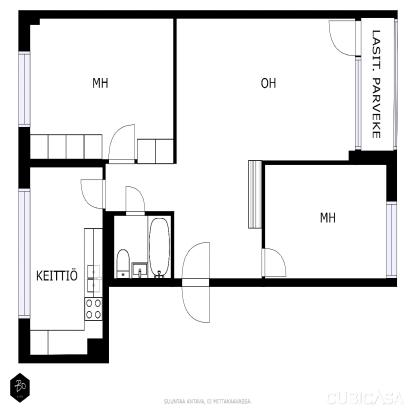door: (181, 243, 215, 326), (328, 19, 363, 59), (108, 124, 137, 164), (80, 179, 106, 210), (261, 248, 287, 279), (125, 184, 146, 216)
window: (18, 188, 30, 318), (18, 52, 30, 128), (386, 202, 396, 276), (354, 57, 362, 148)
zone: (105, 19, 355, 281), (30, 18, 174, 162), (263, 163, 386, 279), (30, 167, 103, 355), (361, 18, 394, 150), (114, 216, 171, 276)
